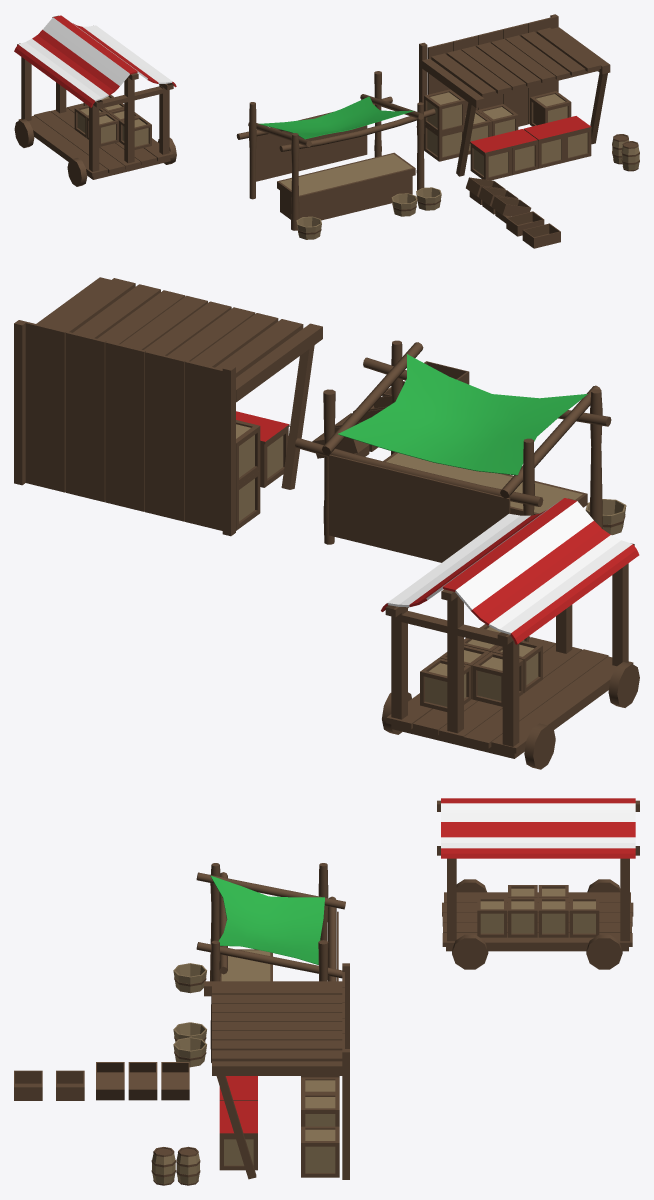
The model's file is marketVillage.fbx.
3 views of the same model, one above another, from view 1: azimuth 30°, elevation 25°; view 2: azimuth 150°, elevation 25°; view 3: azimuth 270°, elevation 25° (orthographic). The views are drawn at different scales.
Visible parts, largest first — view 1: Object.062, Object.010, Object, Object.055, Object.002, Object.068, Object.067, Object.039, Object.029, Object.035, Object.036, Object.011 (+41 smaller); view 2: Object.062, Object.067, Object.068, Object, Object.002, Object.023, Object.026, Object.028, Object.030, Object.025, Object.055, Object.066 (+27 smaller); view 3: Object.062, Object.067, Object, Object.055, Object.066, Object.035, Object.014, Object.002, Object.016, Object.018, Object.044, Object.019 (+30 smaller).
Part boxes in pixels (box(x1,y1,x2,y2)): Object.062: box(14, 15, 176, 107); Object.010: box(277, 152, 415, 220); Object: box(18, 103, 173, 176); Object.055: box(249, 71, 435, 230); Object.002: box(21, 57, 169, 171); Object.068: box(256, 112, 367, 181); Object.067: box(258, 96, 413, 139); Object.039: box(424, 89, 465, 134); Object.029: box(470, 144, 511, 180); Object.035: box(530, 91, 571, 126); Object.036: box(424, 123, 463, 161); Object.011: box(422, 58, 484, 108); Object.062: box(381, 498, 639, 644); Object.067: box(338, 354, 587, 475); Object.068: box(329, 454, 510, 562); Object: box(386, 636, 633, 753); Object.002: box(391, 563, 628, 746); Object.023: box(25, 322, 66, 492); Object.026: box(65, 331, 106, 502); Object.028: box(105, 341, 145, 511); Object.030: box(145, 351, 185, 521); Object.025: box(184, 360, 222, 530); Object.055: box(323, 340, 611, 544); Object.066: box(322, 342, 601, 498); Object.062: box(441, 798, 635, 858); Object.067: box(210, 875, 324, 964); Object: box(442, 892, 633, 946); Object.055: box(210, 863, 328, 1062); Object.066: box(196, 872, 345, 978); Object.035: box(301, 1126, 339, 1177); Object.014: box(212, 1061, 342, 1075); Object.002: box(447, 858, 629, 941); Object.016: box(212, 1050, 342, 1061); Object.018: box(212, 1040, 342, 1050); Object.044: box(301, 1093, 339, 1126); Object.019: box(212, 985, 342, 994).
Bounding box in the file's own units: 15728 × 3741 × 15130.
